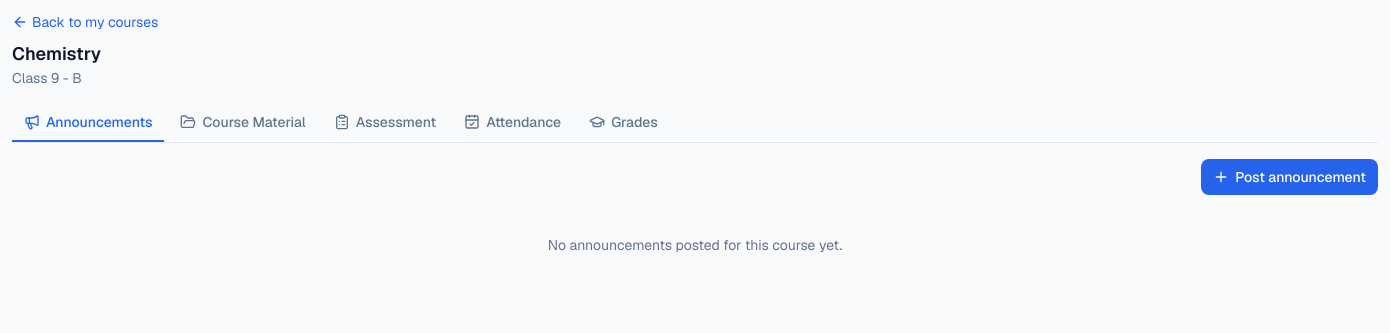
Test: ManageCoursePage (teacher manage-course) › hides the roster instead of allowing attendance for a subject with no timetable slot today
What coordinates should you click on to do the following:
click the button "Attendance"
I would click on:
 (513, 123)
Its box is [452,104,573,142].
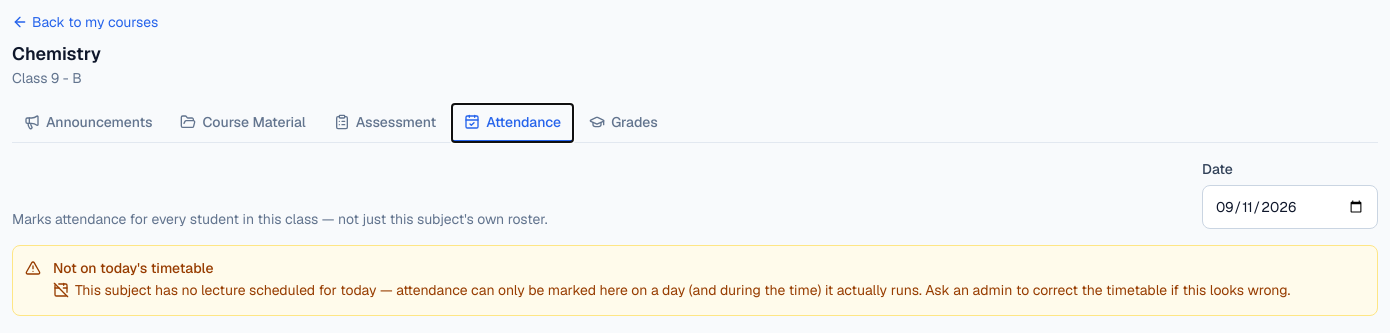
Check: the text "no lecture scheduled for today" is shown, box [75,281,1290,299]
